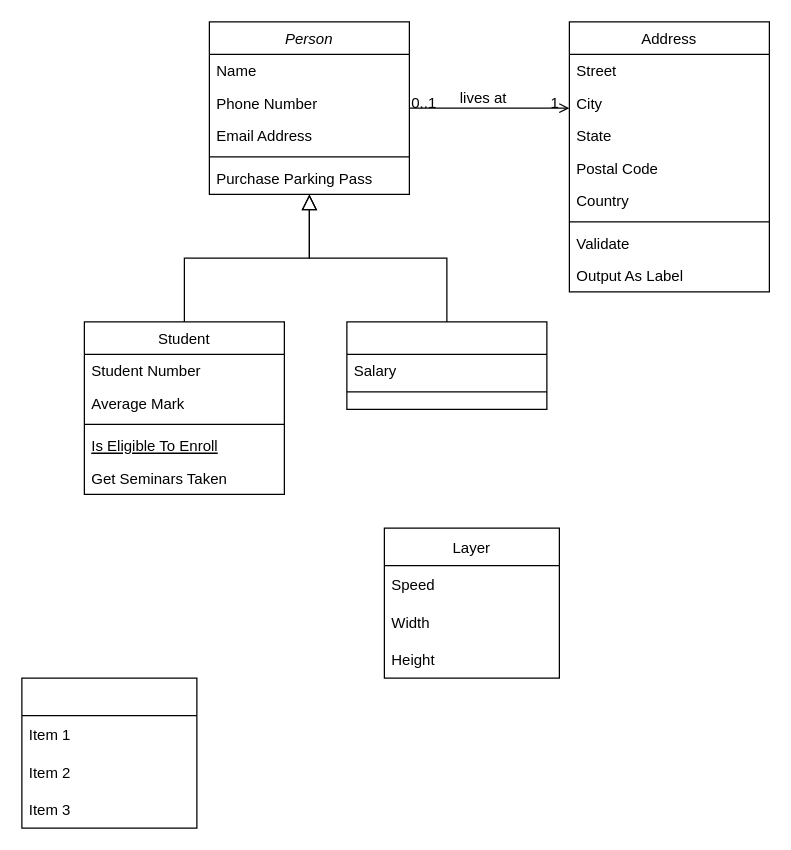
Image size: 791x850. Some labels were removed from this diagram. Each missing label, with the box of its shape:
Professor: (346, 321, 547, 409)
StackedLayer: (21, 677, 197, 828)
